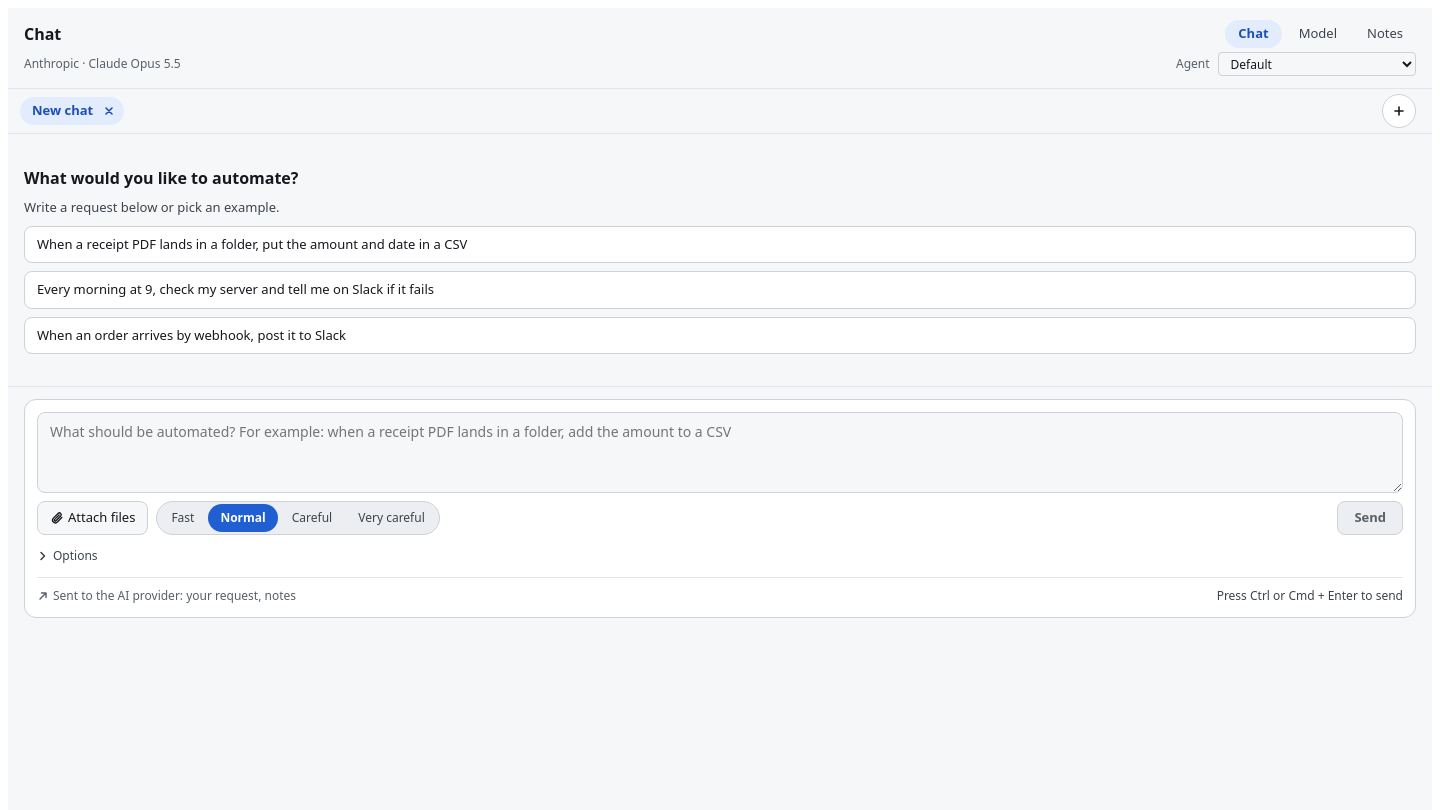
errors from setActiveAgent › say that the agent is gone and reload the list when it was deleted elsewhere
Expected: the button "Anthropic · Claude Opus 5.5" is shown, [24,55,1164,73]
Select "친절한 도우미" in the dropdown labelled "Agent" at (1317, 64), box [1218,52,1416,76]
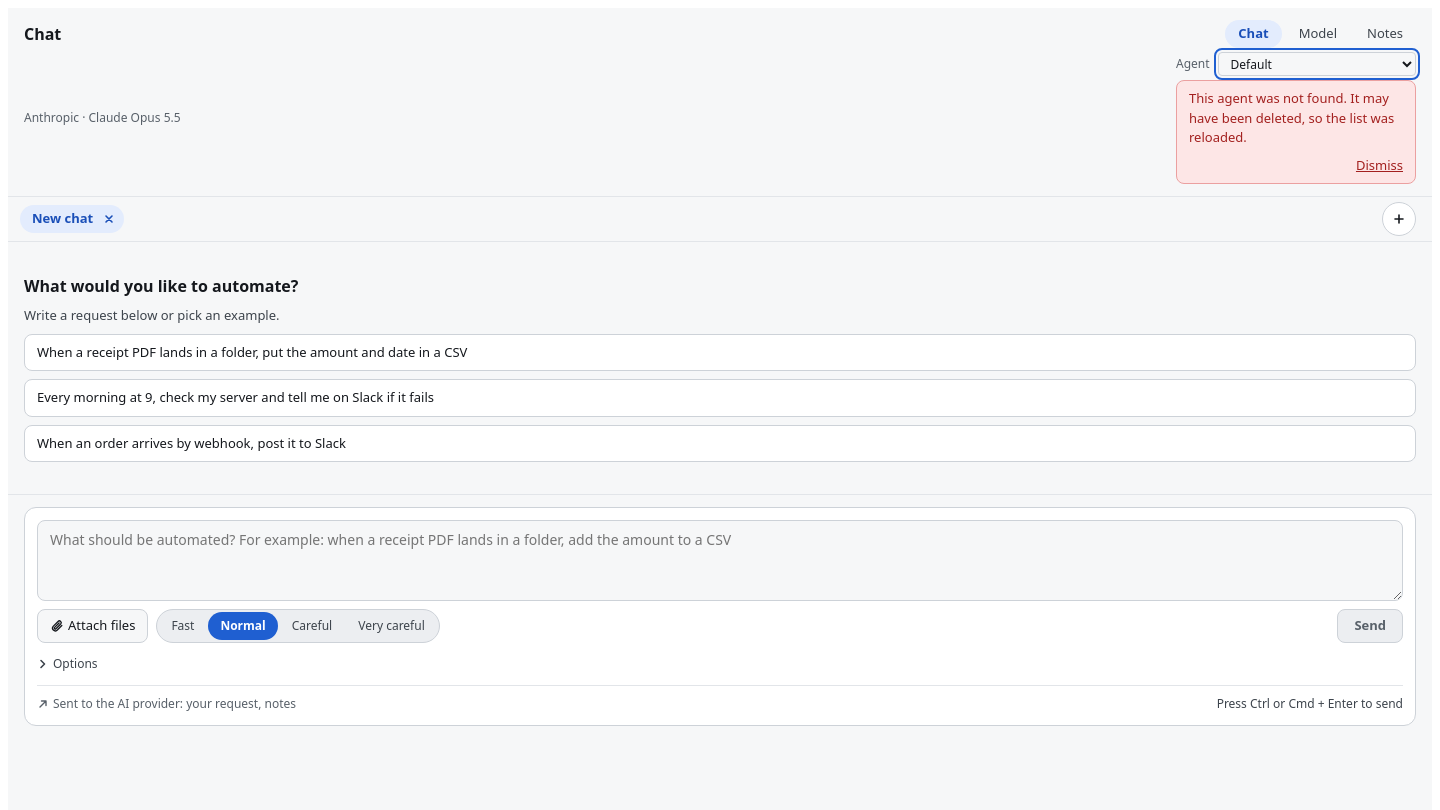
Result: the text "This agent was not found. It may have been deleted, so the list was reloaded." is shown at [1189,89,1403,148]
